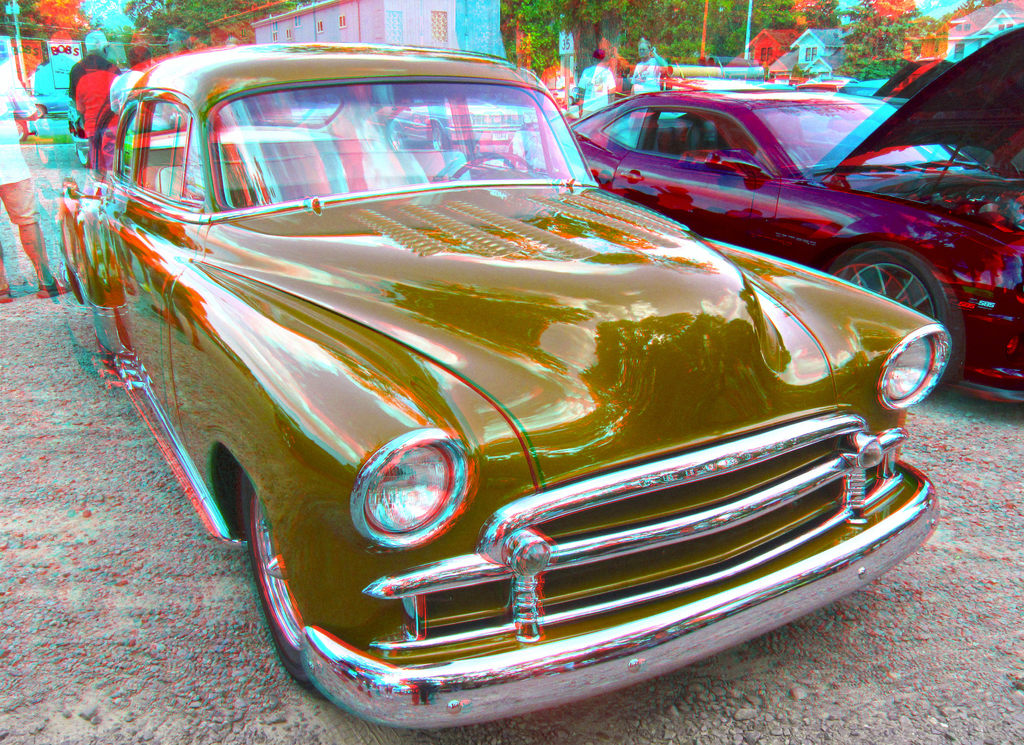Car: (57, 40, 941, 730), (507, 24, 1023, 405), (291, 99, 533, 146), (65, 67, 125, 164), (0, 83, 67, 122)
